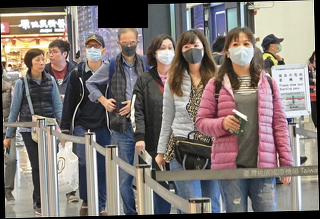with_mask: (229, 38, 255, 67), (181, 41, 205, 66), (155, 42, 175, 66), (85, 42, 103, 63), (119, 40, 139, 58), (273, 40, 283, 53)
without_mask: (32, 56, 47, 73), (47, 48, 61, 65)
